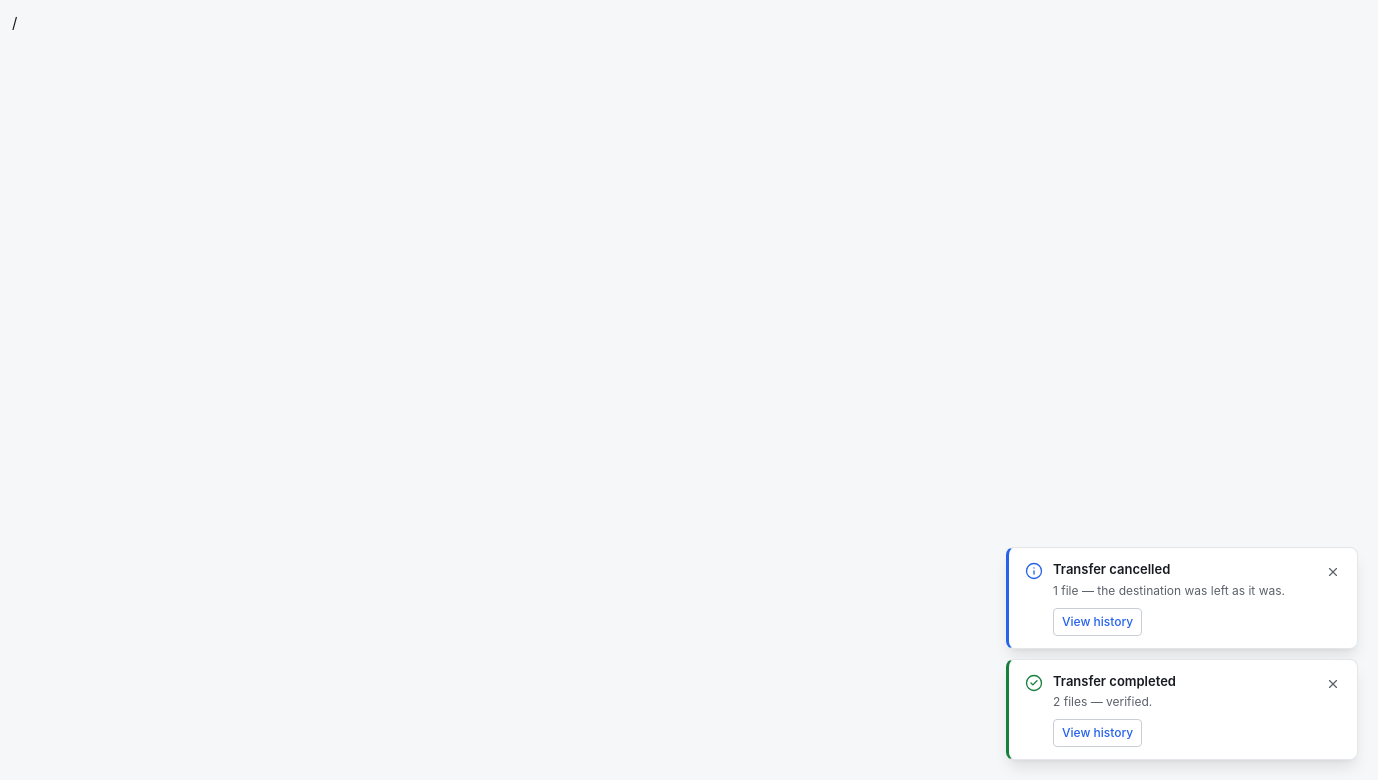
NotificationStack › dismisses one notification without disturbing the others
Click the button named "Dismiss Transfer cancelled": (1333, 572) [1321, 560, 1345, 584]
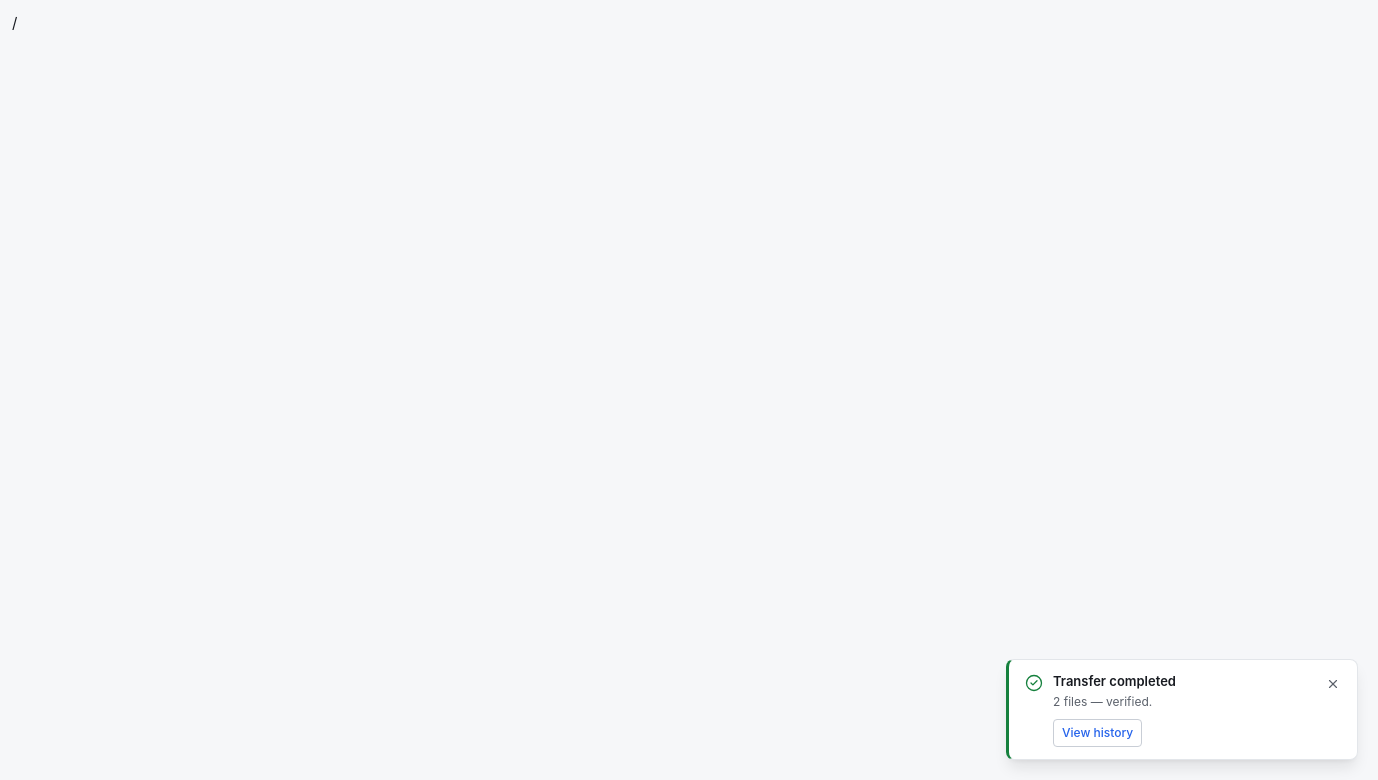
Expected: the text "Transfer completed" is shown, [1053, 672, 1176, 688]
Now the text "Transfer cancelled" is gone
